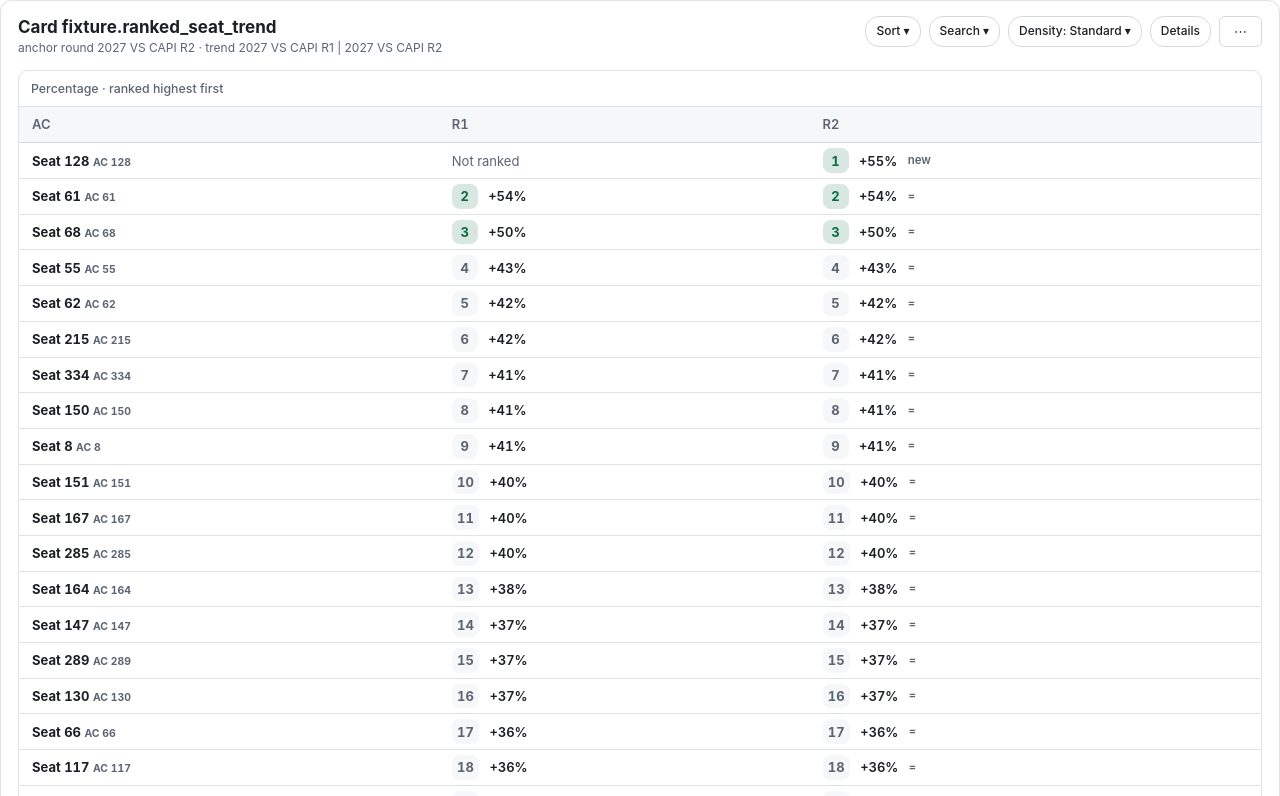
Test: RankingCard › sorts by a later round's rank without leaving the page
Expected: the column heading "Seat 128 AC 128" is shown, [19,143,439,179]
Click the button "Sort ▾" at (893, 32), box [865,16,921,47]
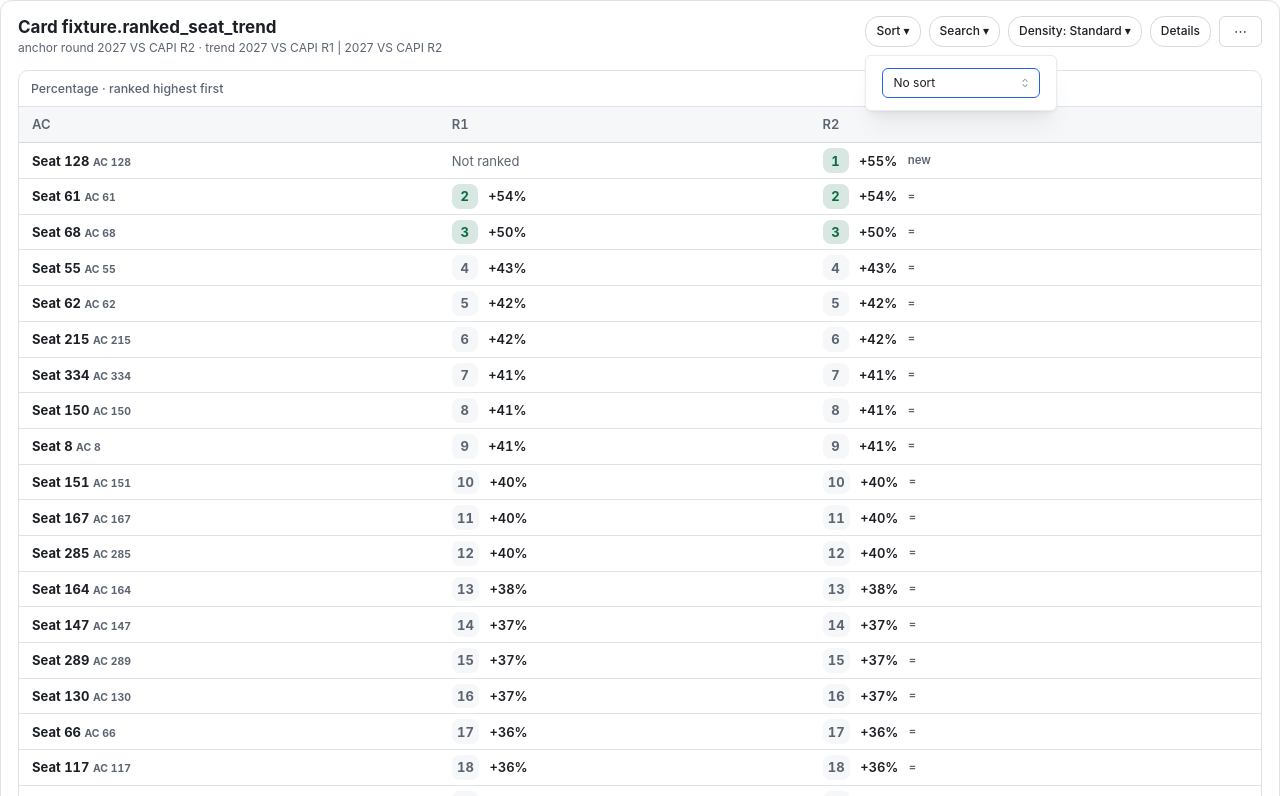
Select "R1 rank, low to high" in the dropdown named "Sort" at (961, 83), box [882,68,1040,98]
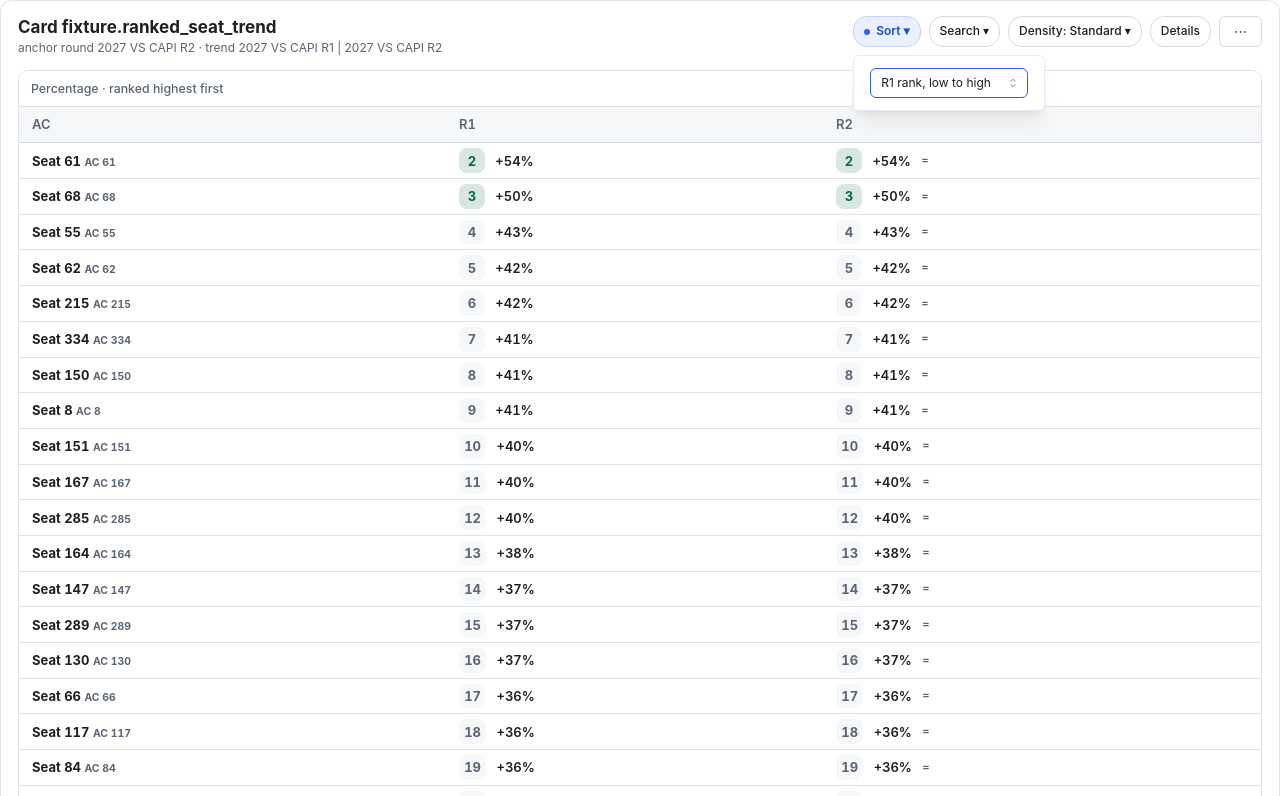
Now the column heading "Seat 61 AC 61" no longer shows "Seat 128", box [19,143,446,179]
